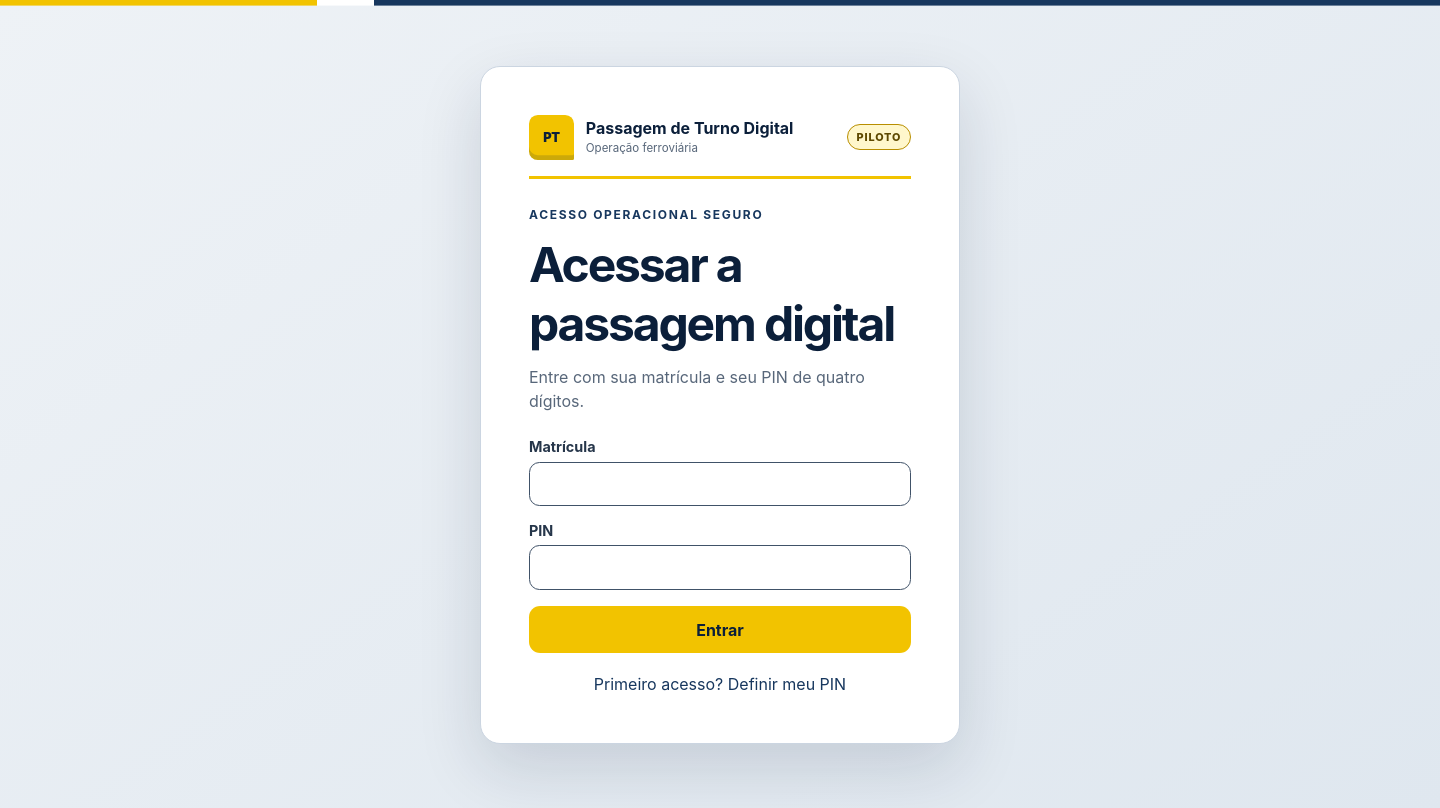
Test: autenticação React › conclui o primeiro acesso e retorna ao login
The width and height of the screenshot is (1440, 808).
Click the button "Primeiro acesso? Definir meu PIN": coordinates (720, 684) [529,673,911,695]
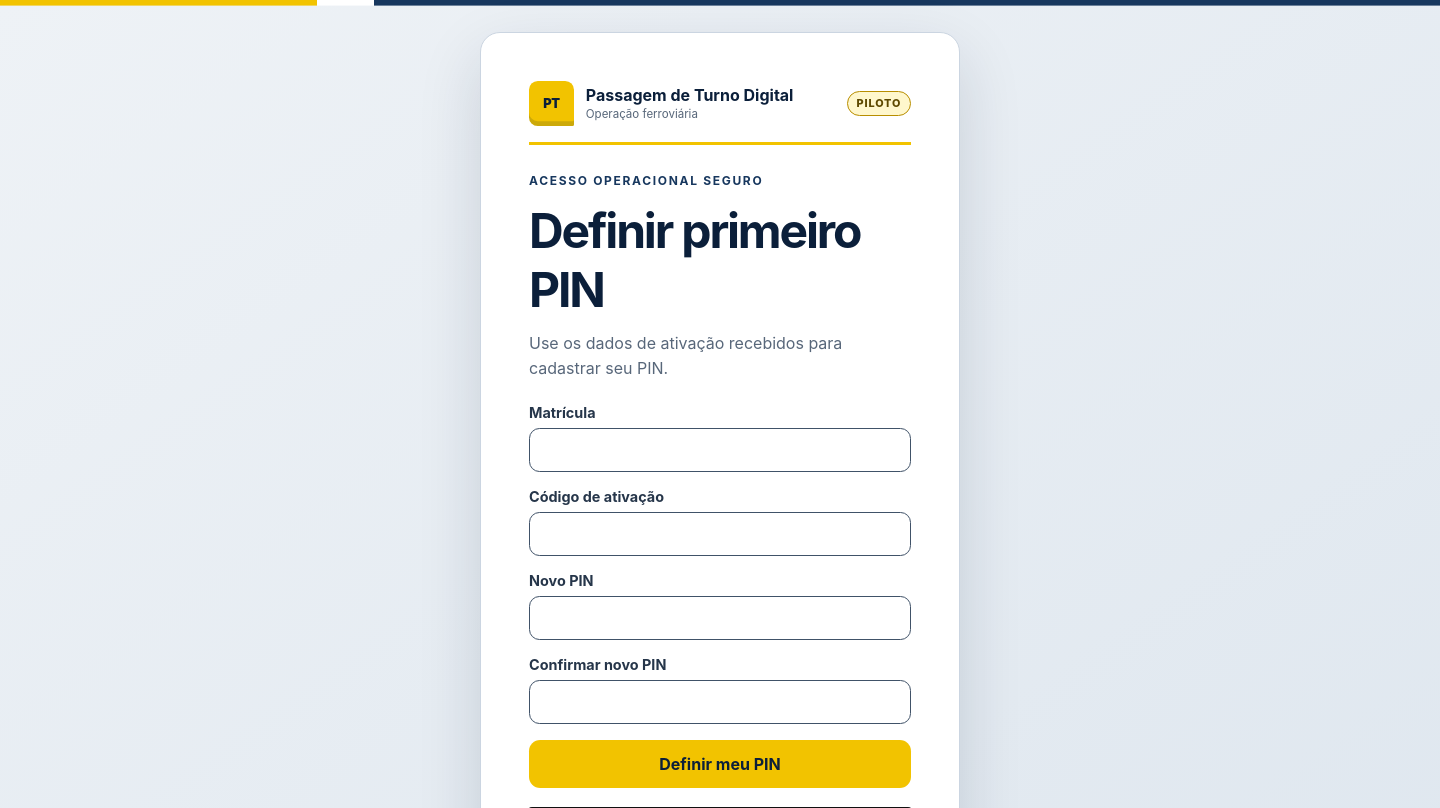
In the field labelled "Matrícula": coordinates (720, 450) [529,428,911,472], type "30032552"
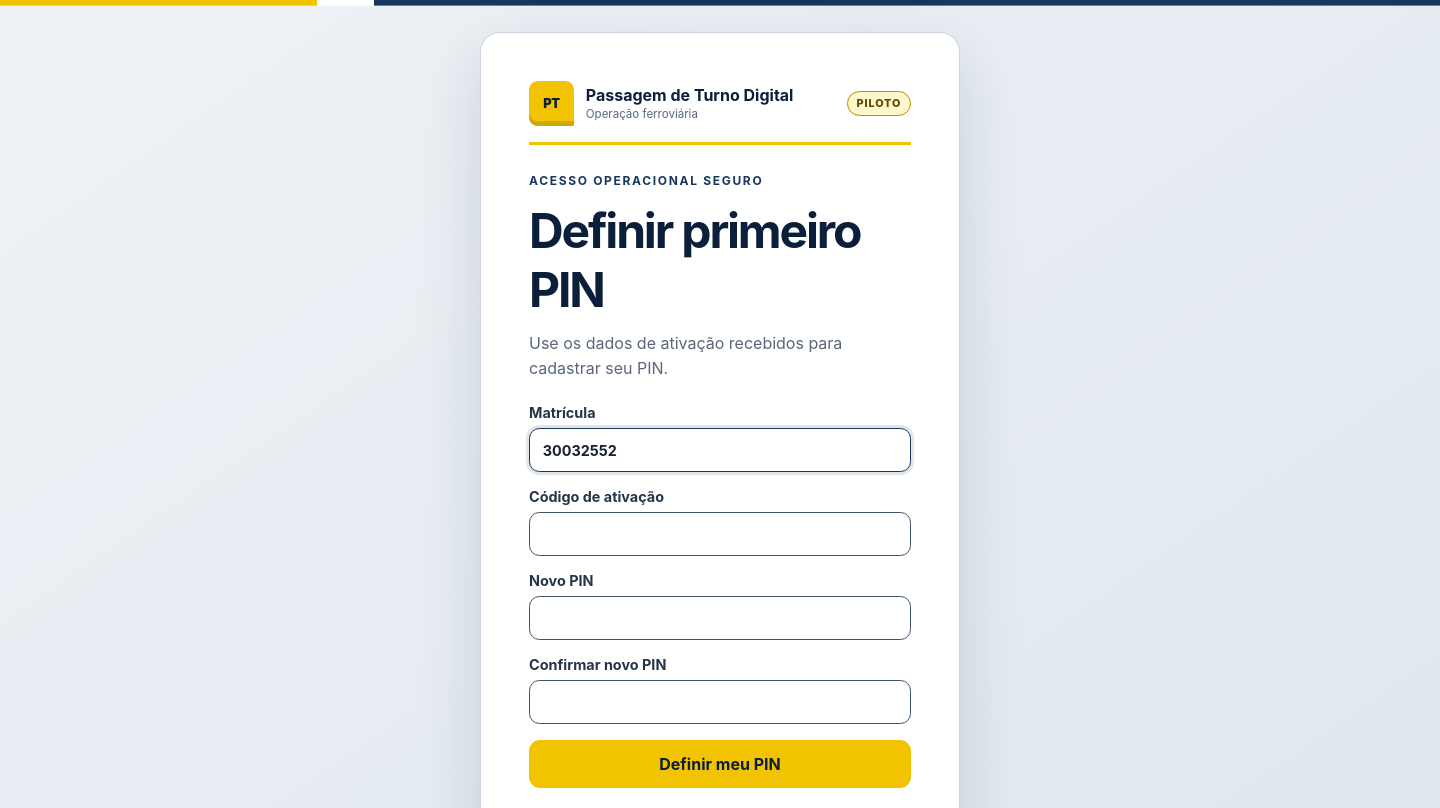
In the password field labelled "Código de ativação": coordinates (720, 534) [529,512,911,556], type "123456"
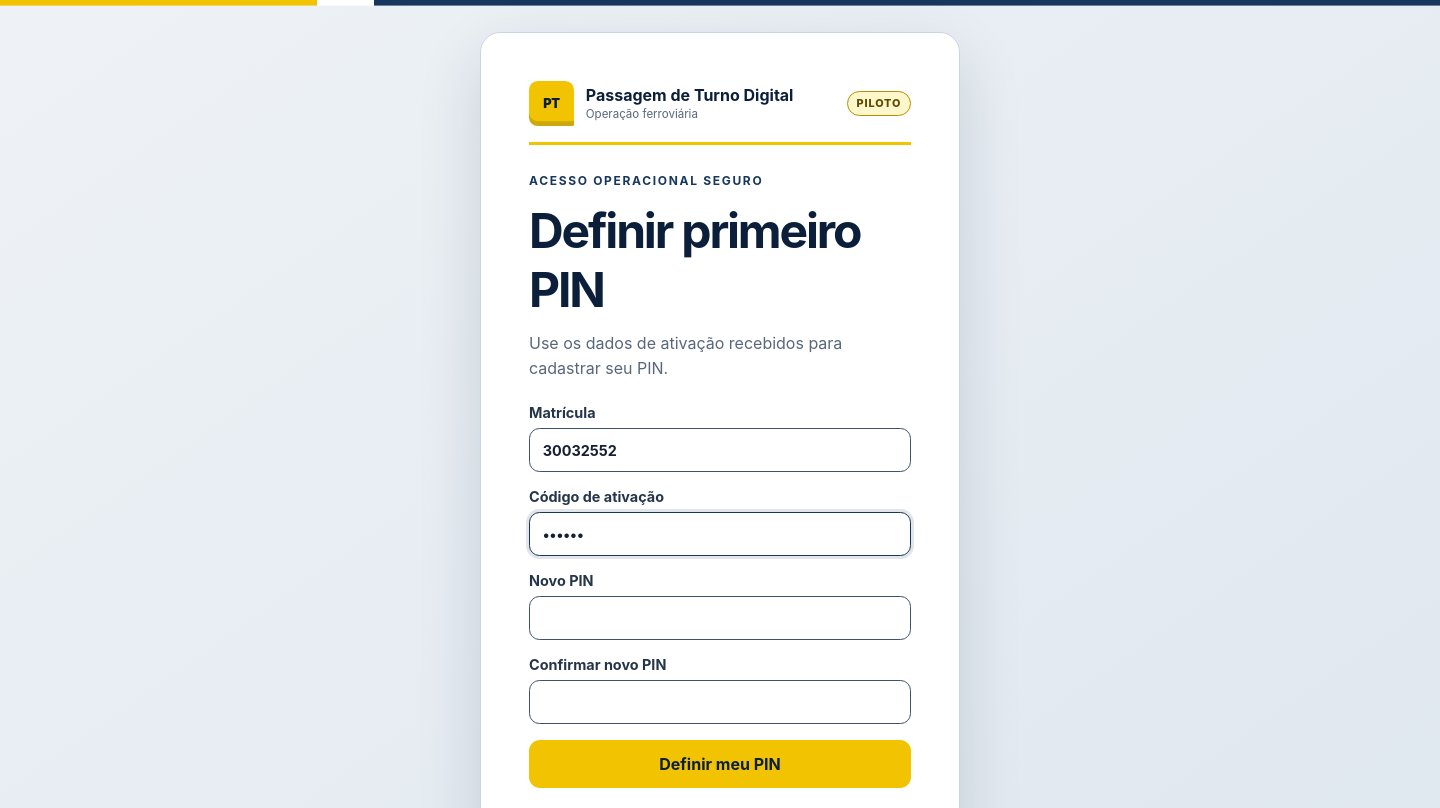
In the password field labelled "Novo PIN": coordinates (720, 618) [529,596,911,640], type "4321"
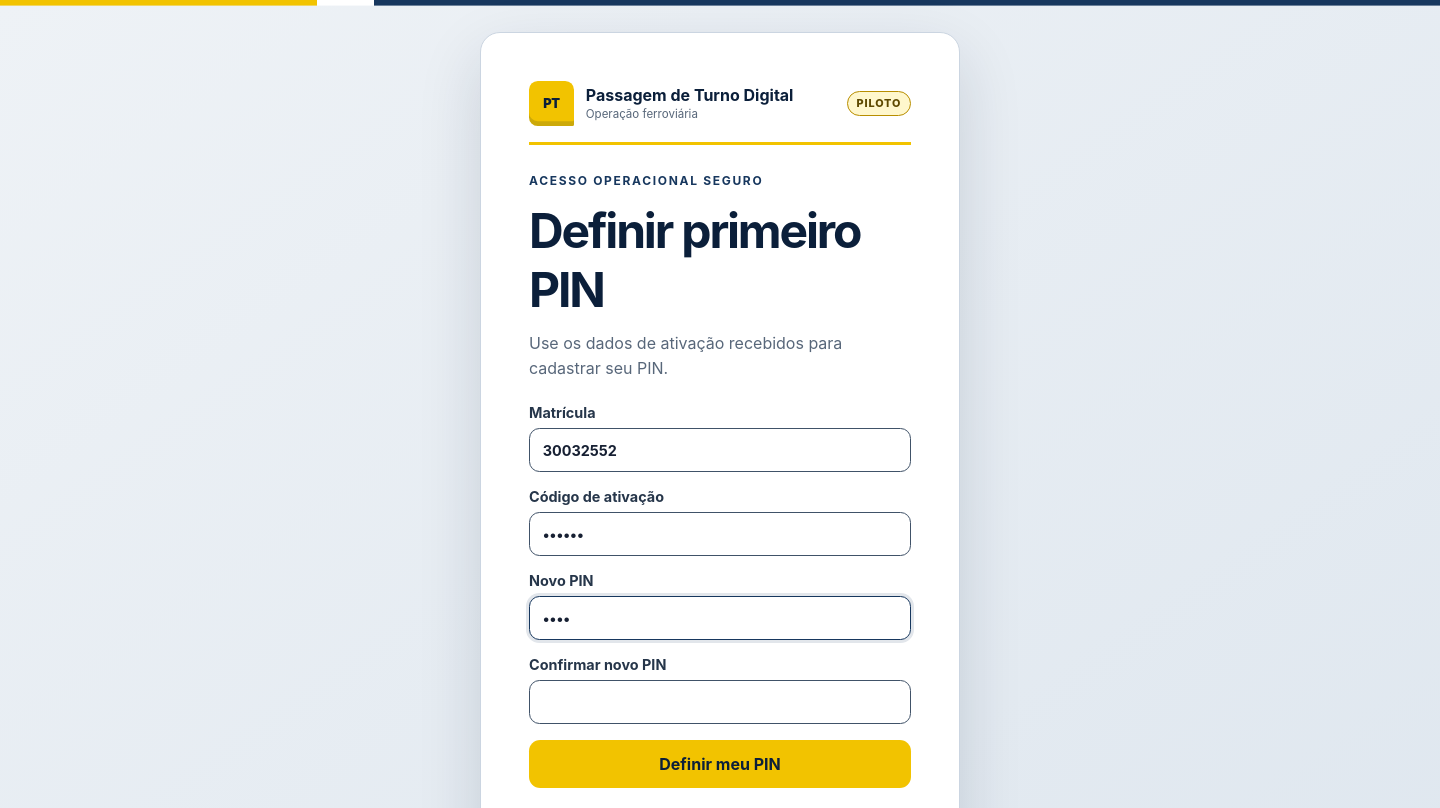
In the password field labelled "Confirmar novo PIN": coordinates (720, 702) [529,680,911,724], type "4321"
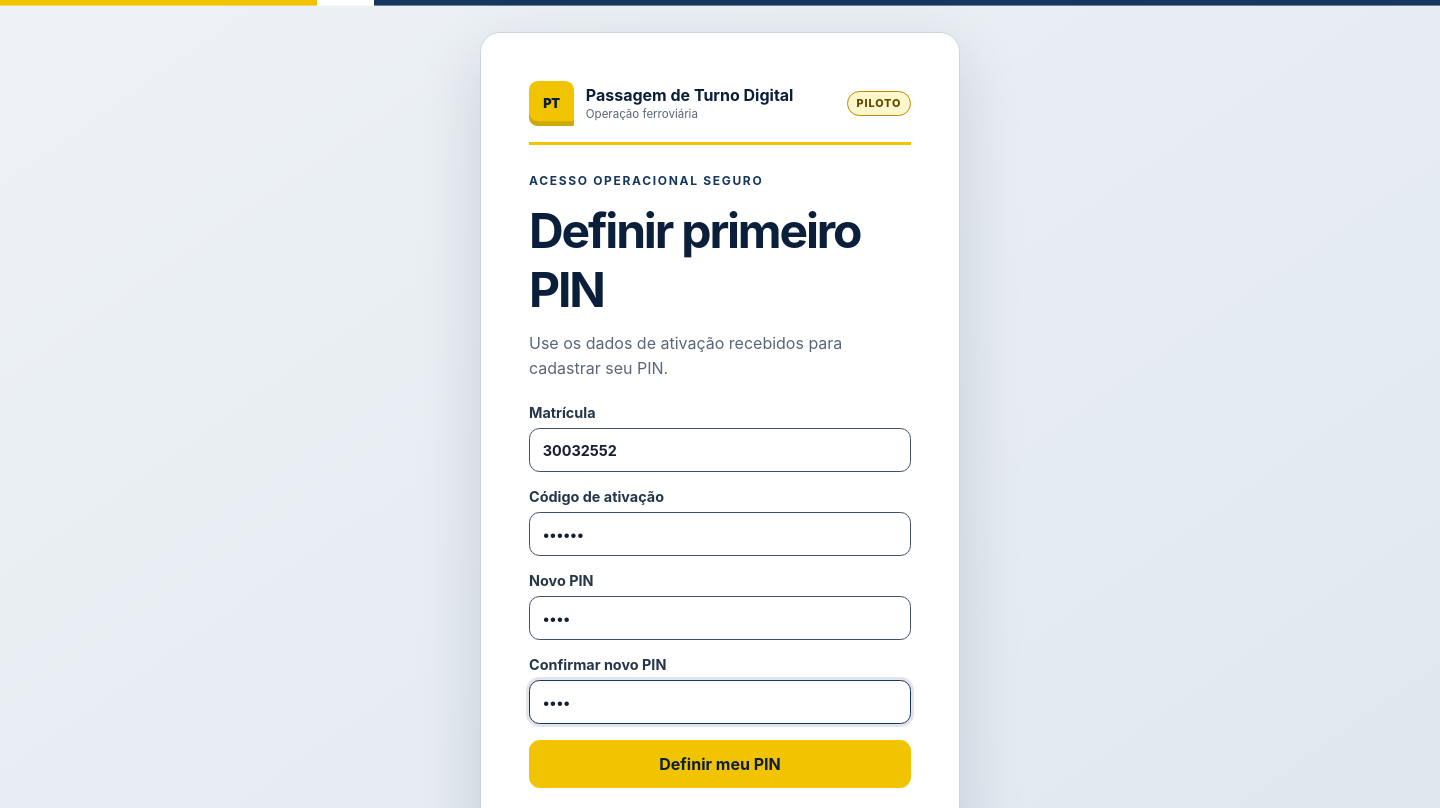
Click the button "Definir meu PIN": coordinates (720, 764) [529,740,911,788]
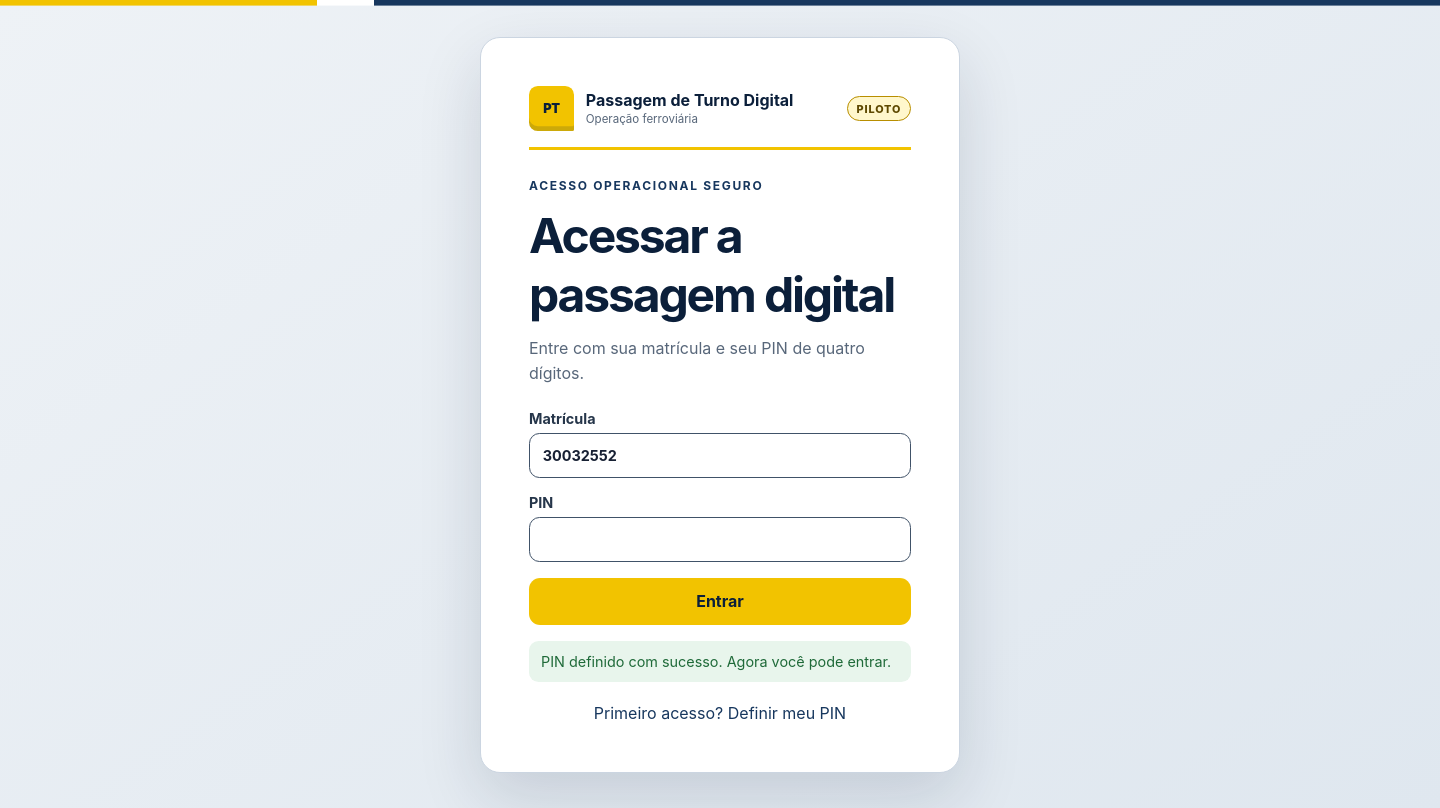
expect the heading "Acessar a passagem digital" is shown: met, box [529,206,911,324]
expect the message reads "PIN definido com sucesso. Agora você pode entrar.": met, box [541,653,891,670]
